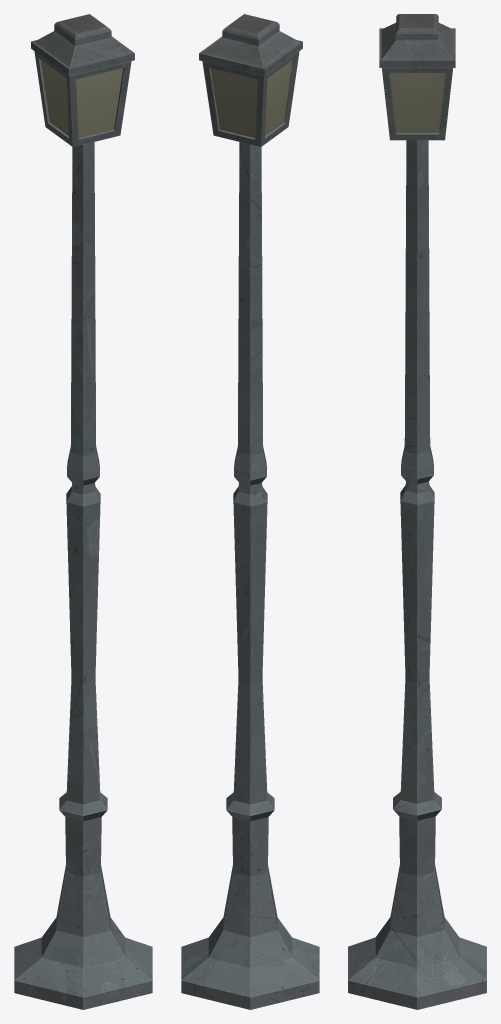
The model's file is Lamp_A.fbx.
3 views of the same model, side by side, from view 1: azimuth 30°, elevation 25°; view 2: azimuth 150°, elevation 25°; view 3: azimuth 270°, elevation 25° (orthographic).
Visible parts, largest first — view 1: Lamp_A; view 2: Lamp_A; view 3: Lamp_A.
Boxes of the visible parts, left/top/right/bottom form: Lamp_A: left=14, top=14, right=152, bottom=1009; Lamp_A: left=181, top=14, right=319, bottom=1009; Lamp_A: left=348, top=14, right=486, bottom=1009.
Size of the model in its own units: 106 by 698 by 91.98.
Materials: 2 (2 with a texture image).
